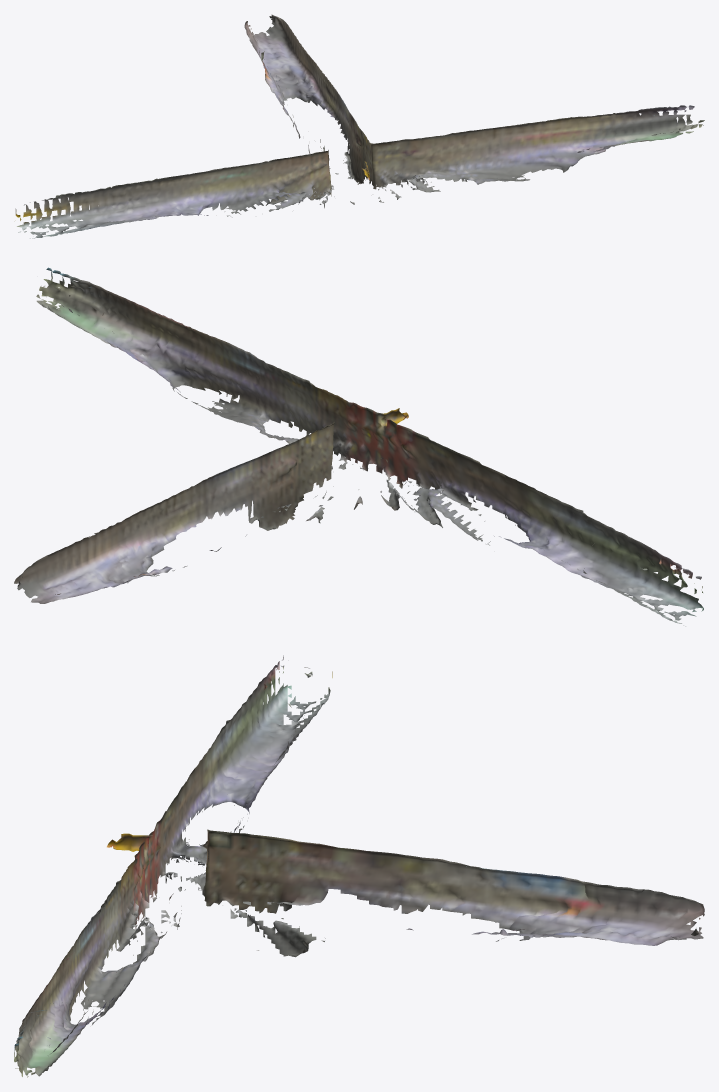
Rendered from collider.glb.
3 renders of one model, top to bottom at view 1: azimuth 30°, elevation 25°; view 2: azimuth 150°, elevation 25°; view 3: azimuth 270°, elevation 25°, orthographic. The views are drawn at different scales.
Visible parts, largest first — view 1: world; view 2: world; view 3: world.
Boxes of the visible parts, box(x1,y1,x2,y2) form: world: box(15, 14, 704, 238); world: box(14, 267, 703, 626); world: box(14, 655, 704, 1077).
Bounding box in the file's own units: 74.47 × 8.52 × 49.73.
